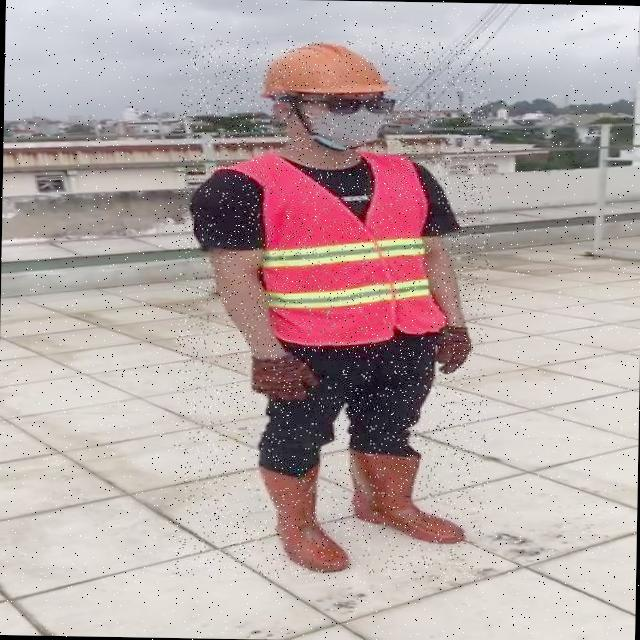boots: (344, 448, 468, 544), (256, 464, 352, 572)
helmet: (251, 38, 400, 101)
vest: (259, 148, 444, 347)
